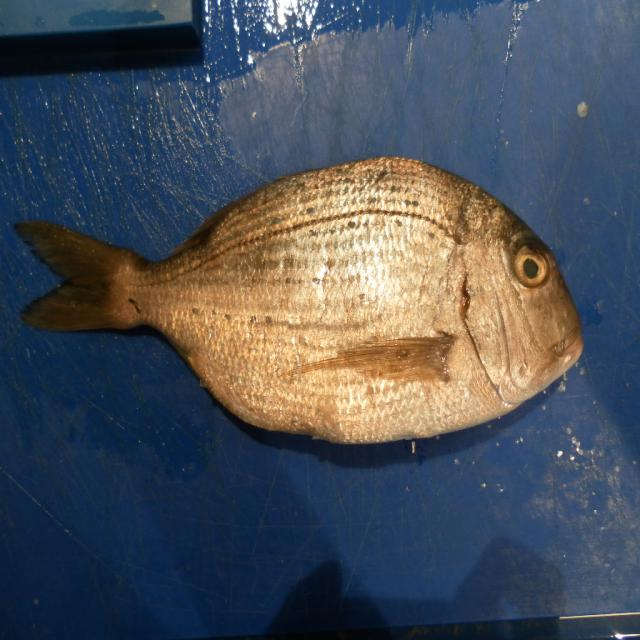Red-Sea-Bream-mercan-: (13, 158, 584, 448)
